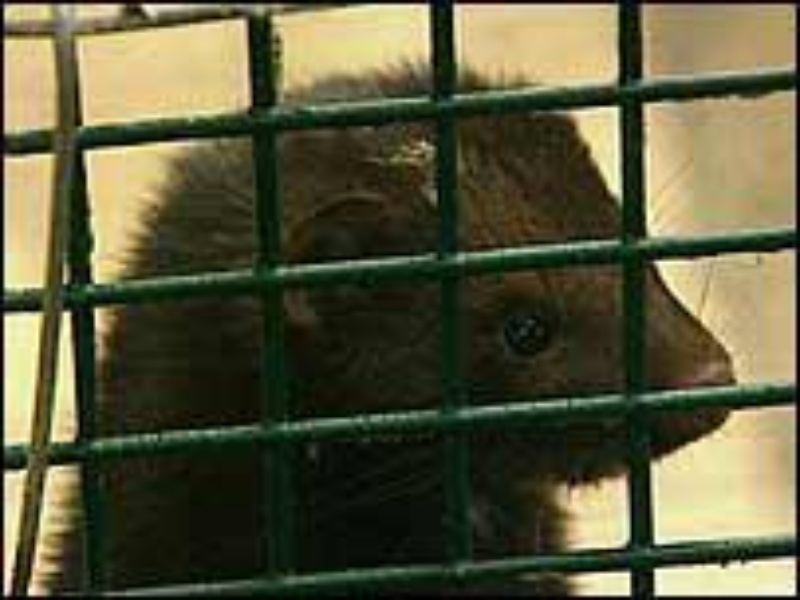minkish: (40, 58, 738, 597)
